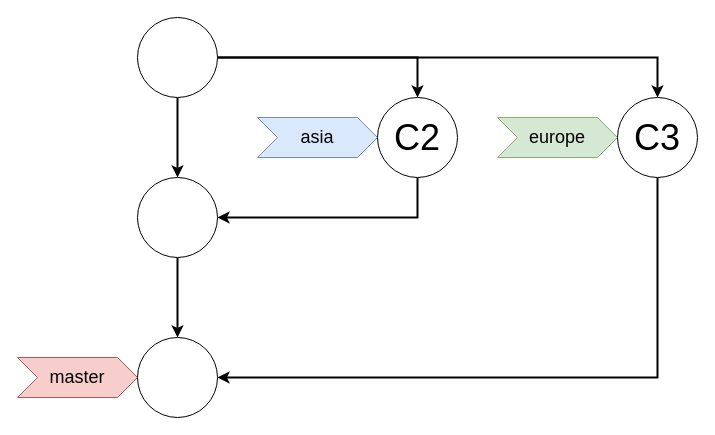
The diagram is 715 pixels wide and 435 high, and some of its shapes have lost their labels. The centre of each missing label's shape, as x and y in pixels:
"C1" goes at point 177,57.
"C4" goes at point 177,217.
"C5" goes at point 177,377.
